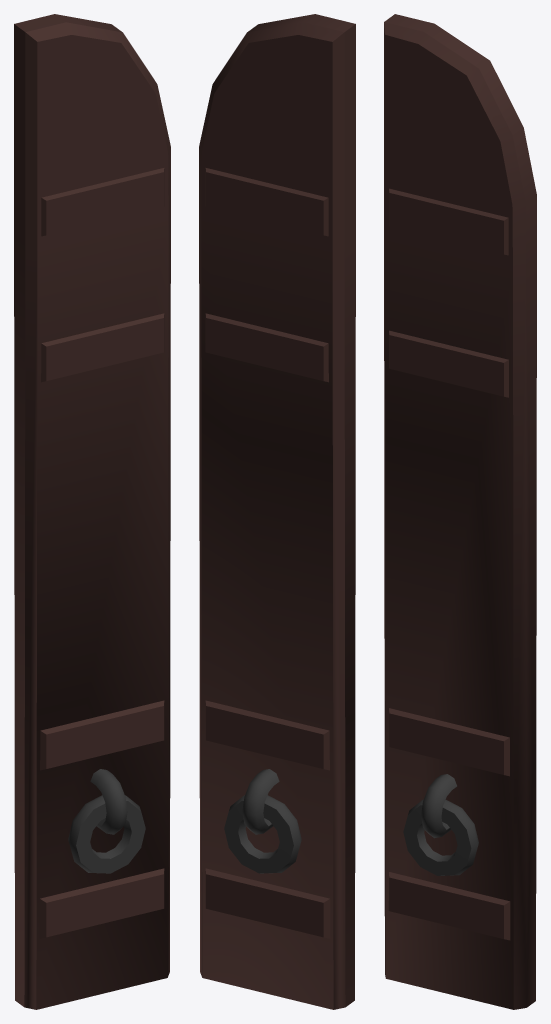
Rendered from door_tall_R.fbx.
The picture shows the model from 3 angles, left to right: view 1: azimuth 30°, elevation 25°; view 2: azimuth 150°, elevation 25°; view 3: azimuth 330°, elevation 25°; orthographic projection. The views are drawn at different scales.
Visible parts, largest first — view 1: door_tall.R; view 2: door_tall.R; view 3: door_tall.R.
Part boxes in pixels (x1,y1,x2,y2): door_tall.R: (14,14,170,1009); door_tall.R: (199,14,355,1009); door_tall.R: (384,14,536,1009).
Size of the model in its own units: 100 by 641 by 77.35.
